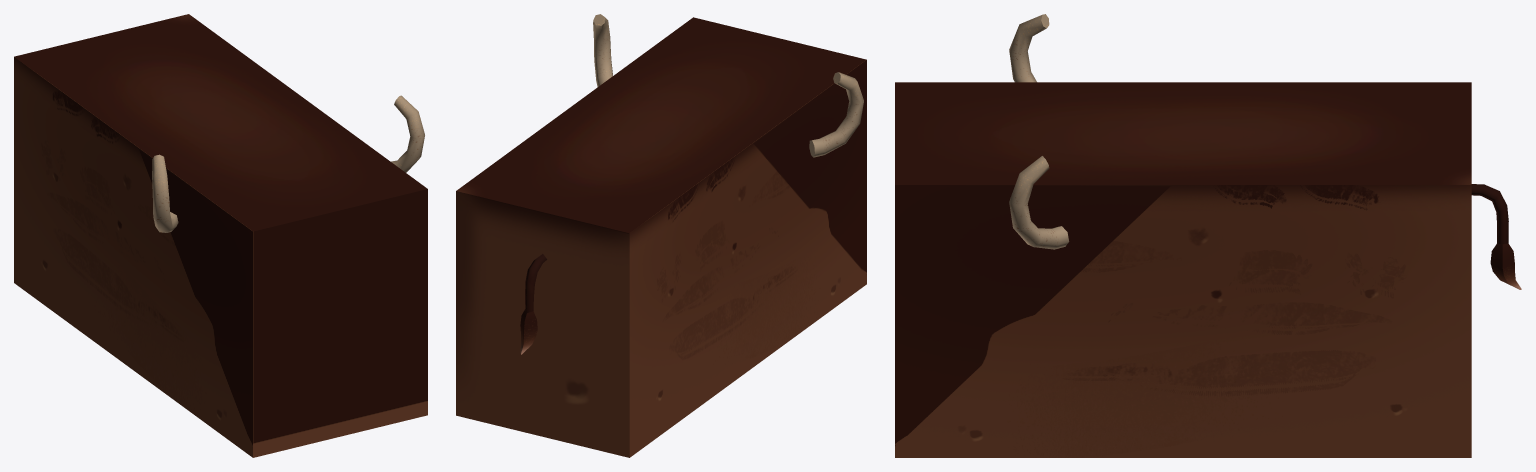
The model's file is gnu_withAnimation_new.fbx.
3 renders of one model, left to right at view 1: azimuth 30°, elevation 25°; view 2: azimuth 150°, elevation 25°; view 3: azimuth 270°, elevation 25°, orthographic. The views are drawn at different scales.
Parts seen in each view (by area): view 1: body, horn_r, horn_l; view 2: body, horn_r, tail, horn_l; view 3: body, horn_l, tail, horn_r.
Boxes of the visible parts, x1,y1,x2,y2 form: body: (14,14,427,457); horn_r: (152,154,178,232); horn_l: (391,95,424,172); body: (456,17,866,457); horn_r: (809,72,863,157); tail: (520,254,546,354); horn_l: (593,14,612,86); body: (895,82,1471,457); horn_l: (1009,156,1069,249); tail: (1471,184,1521,289); horn_r: (1009,14,1049,82).
Bounding box in the file's own units: 2.44 × 2.3 × 4.07.
1 material, 1 textured.
